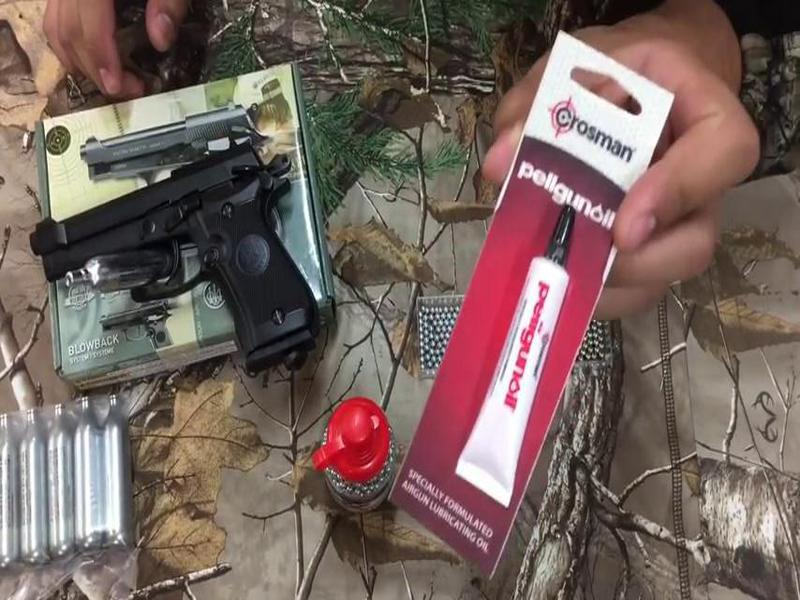Pistola: (23, 180, 315, 372)
